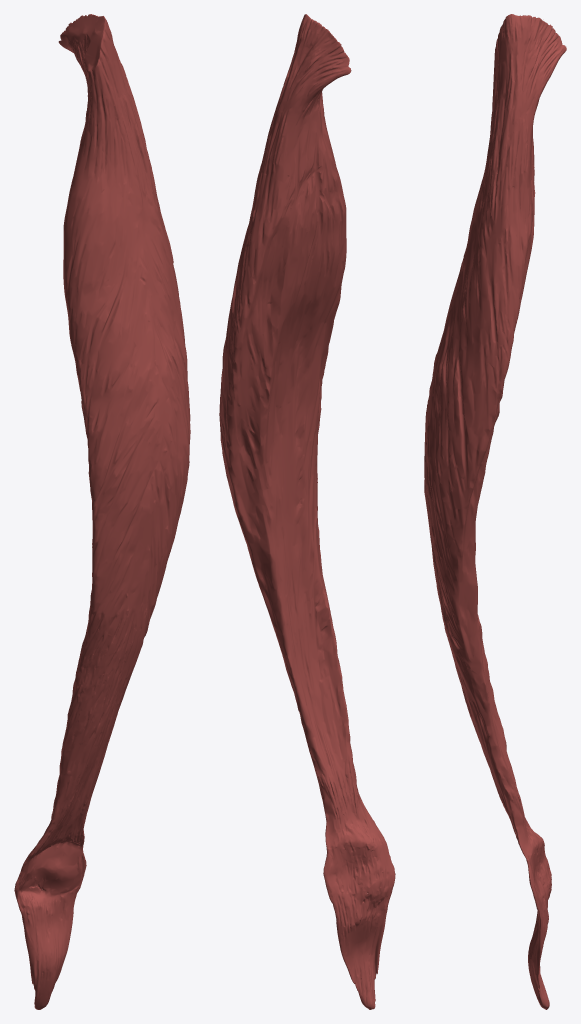
File: FMA38929.glb
3 renders of one model, left to right at view 1: azimuth 30°, elevation 25°; view 2: azimuth 210°, elevation 25°; view 3: azimuth 270°, elevation 25°, orthographic. The views are drawn at different scales.
Visible parts, largest first — view 1: FMA38929; view 2: FMA38929; view 3: FMA38929.
Boxes of the visible parts, box(x1,y1,x2,y2) form: FMA38929: box(14, 14, 190, 1009); FMA38929: box(219, 14, 395, 1009); FMA38929: box(424, 14, 566, 1009).
Bounding box in the file's own units: 0.0789 × 0.5279 × 0.067.
